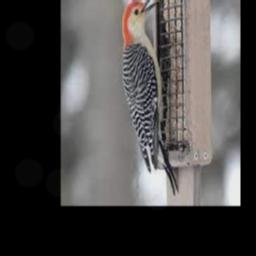Woodpecker: (122, 0, 178, 194)
